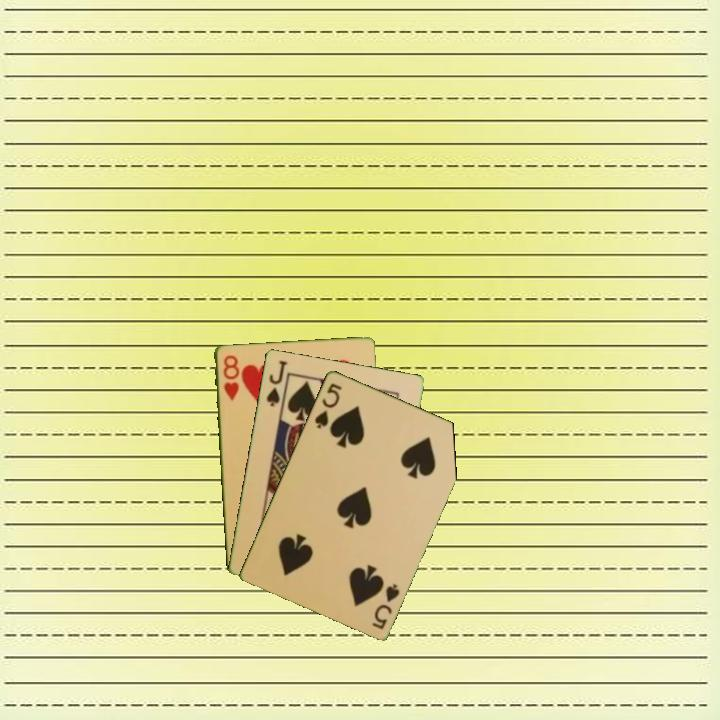5s: (311, 379, 345, 431), (368, 580, 402, 632)
8h: (219, 351, 241, 403)
Js: (262, 357, 290, 409)
